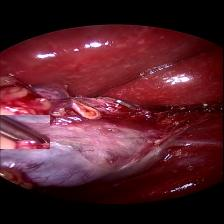Grasper: (0, 114, 50, 148)
